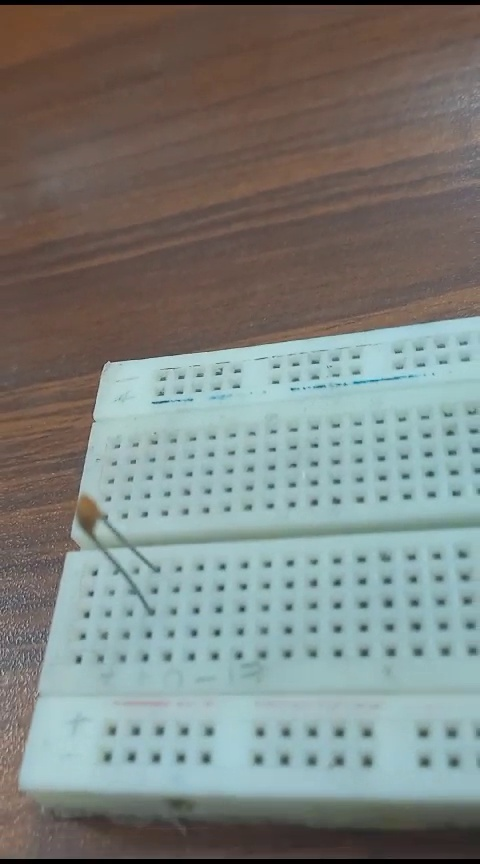ceramic capacitor: (72, 489, 160, 623)
